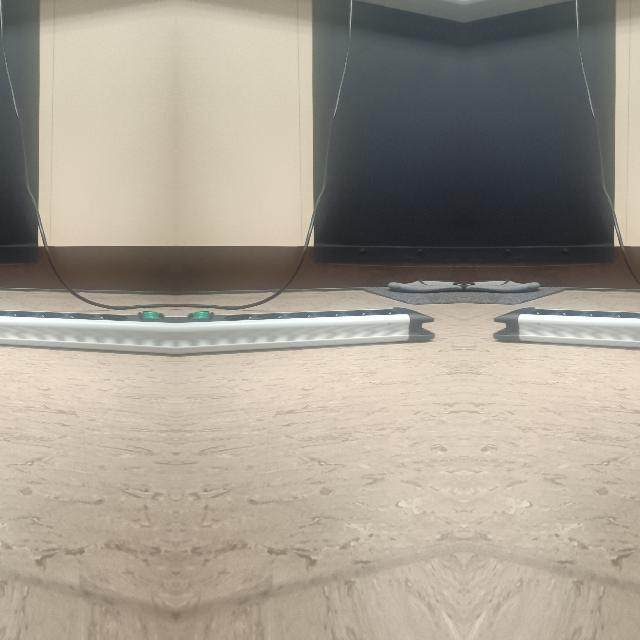obstacle: (175, 300, 435, 348), (0, 300, 175, 348), (492, 300, 640, 348)
